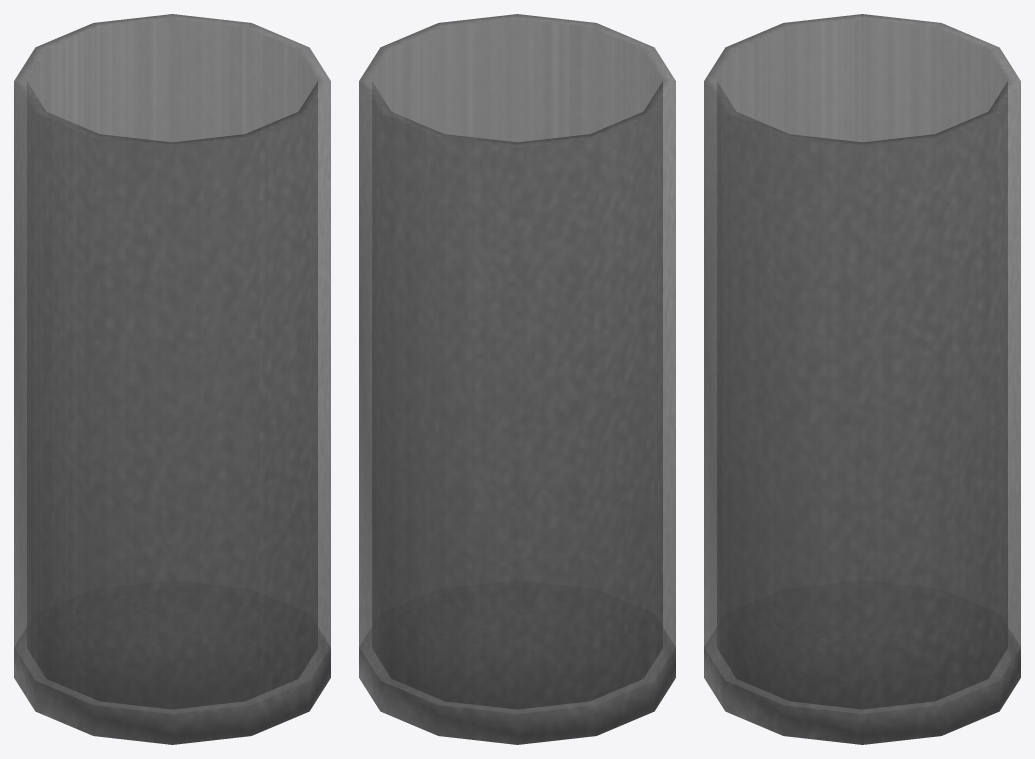
The model's file is empy_glass_02.obj.
3 views of the same model, side by side, from view 1: azimuth 30°, elevation 25°; view 2: azimuth 150°, elevation 25°; view 3: azimuth 270°, elevation 25° (orthographic).
Visible parts, largest first — view 1: empy_glass.02; view 2: empy_glass.02; view 3: empy_glass.02.
Part boxes in pixels (box(x1,y1,x2,y2)): empy_glass.02: box(14, 14, 330, 744); empy_glass.02: box(359, 14, 675, 744); empy_glass.02: box(704, 14, 1020, 744).
Size of the model in its own units: 0.0989 by 0.2058 by 0.0989.
